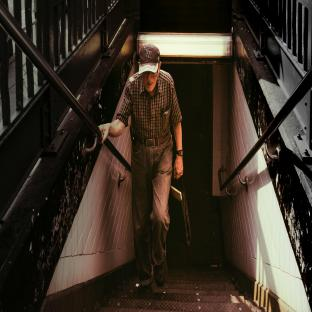Human: (99, 44, 183, 292)
